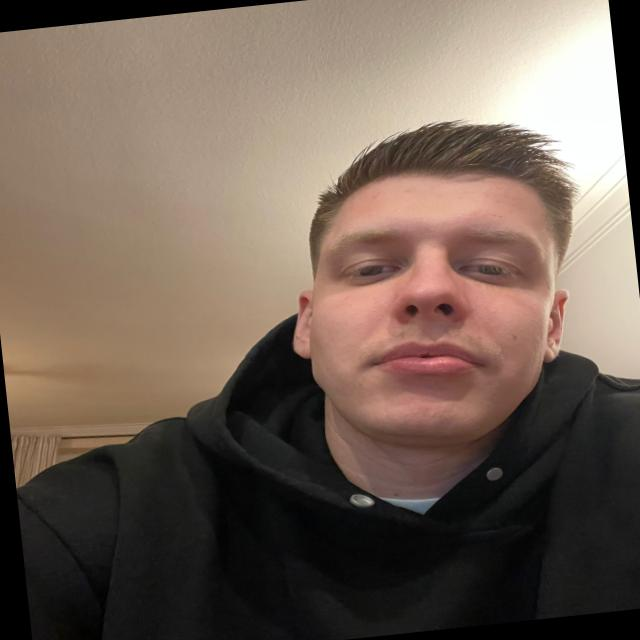JeremiasDiaz: (274, 106, 597, 467)
